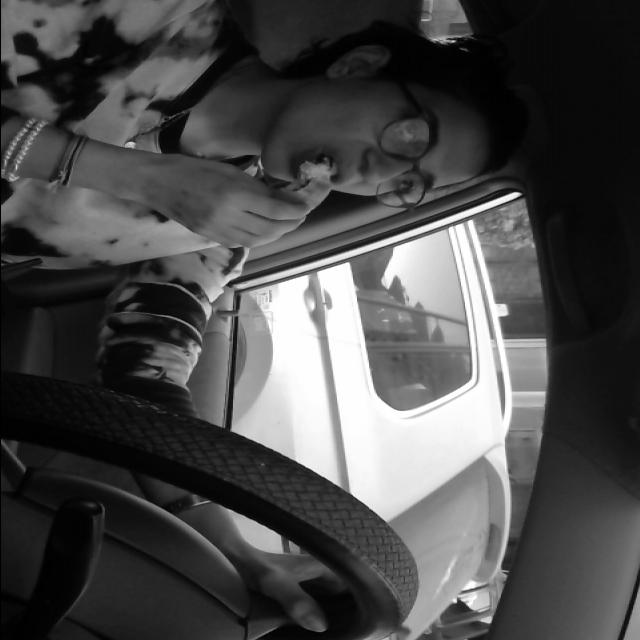eating: (240, 160, 362, 238)
